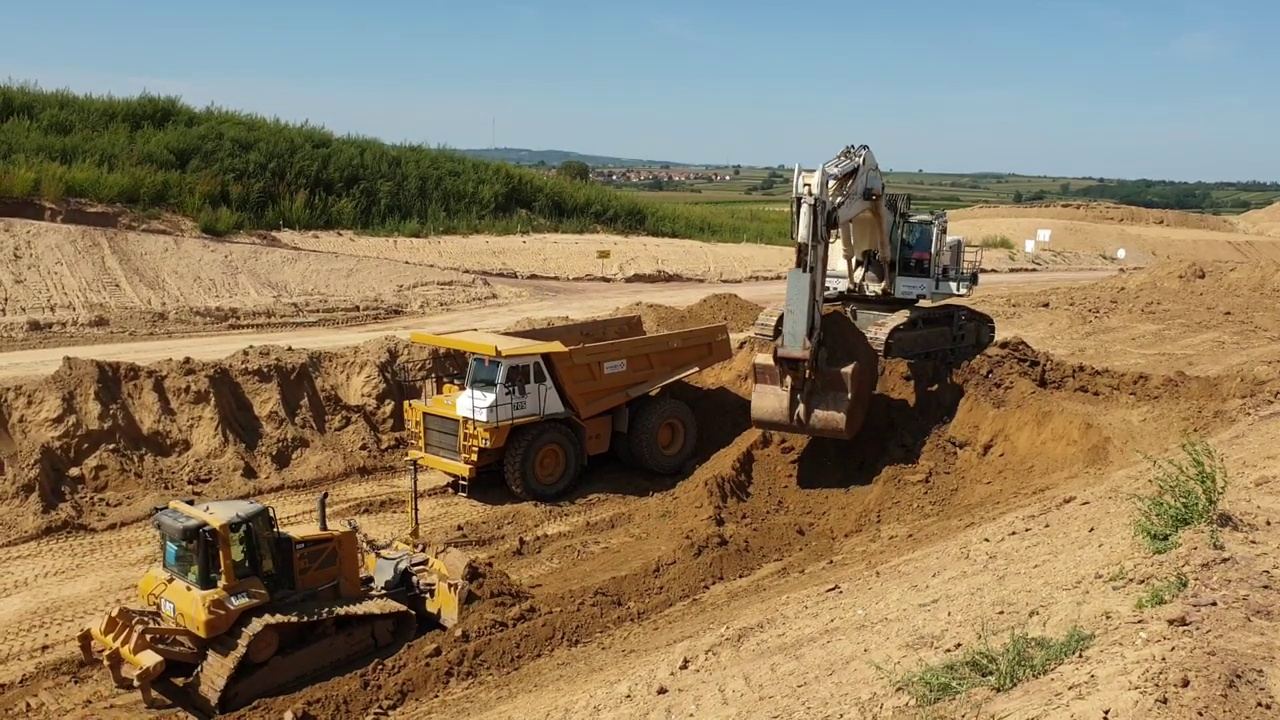bulldozer: (76, 457, 483, 716)
excavator: (745, 137, 999, 445), (392, 312, 737, 505)
